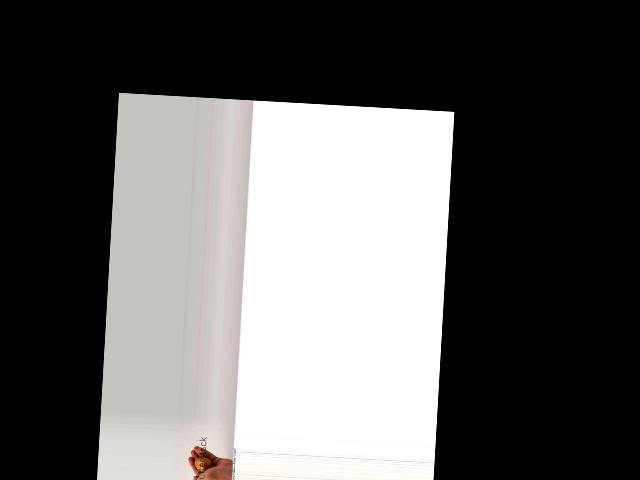egg: (194, 456, 213, 472)
